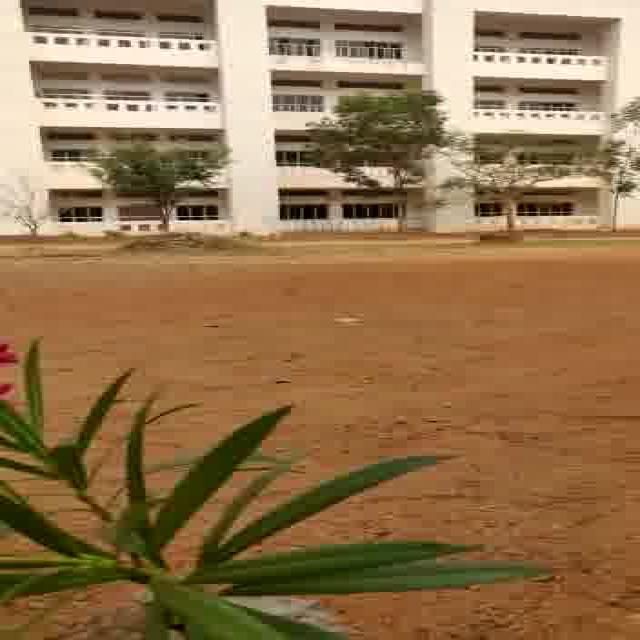Oleander: (0, 333, 473, 640)
